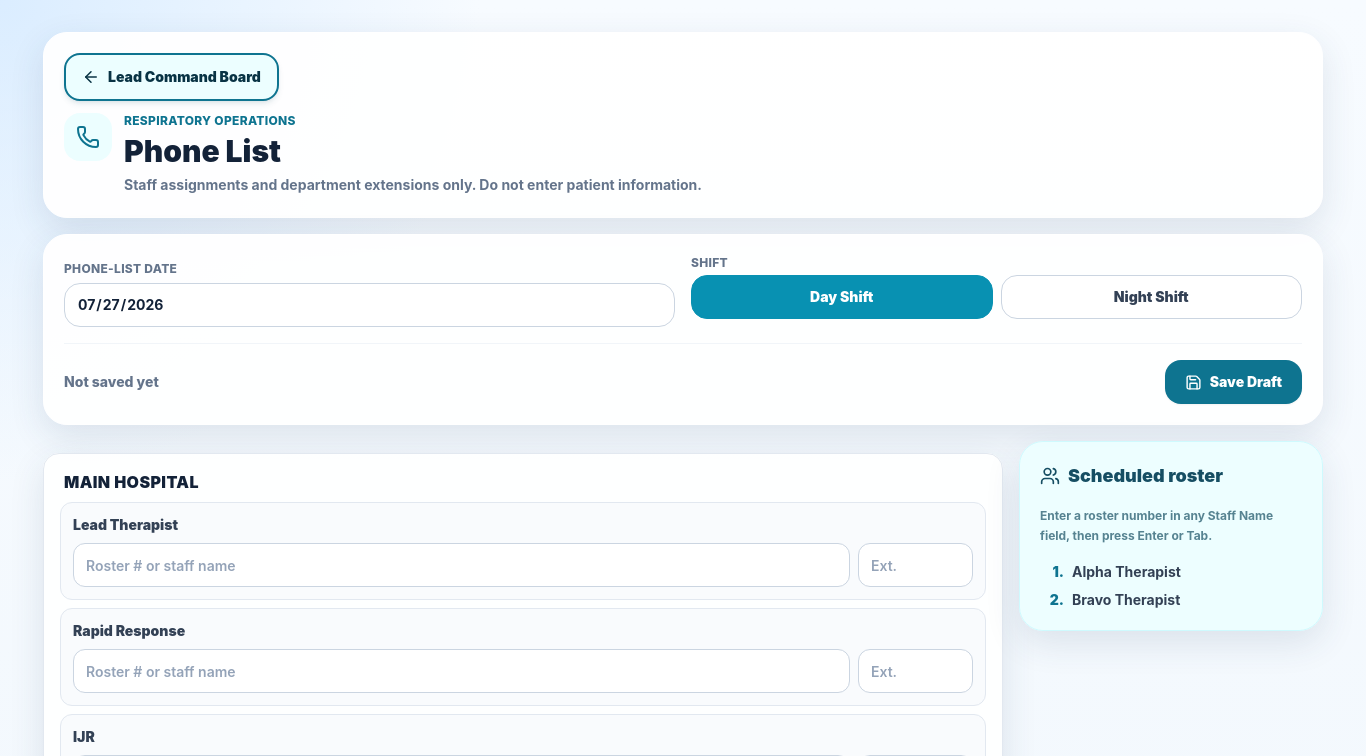
it: PhoneListClient › shows the complete active directory and commits roster shortcuts
This screenshot has width=1366, height=756.
Type "2" into the field with test id "staff-name-main_lead_therapist" at (462, 565), box [73, 543, 850, 587]
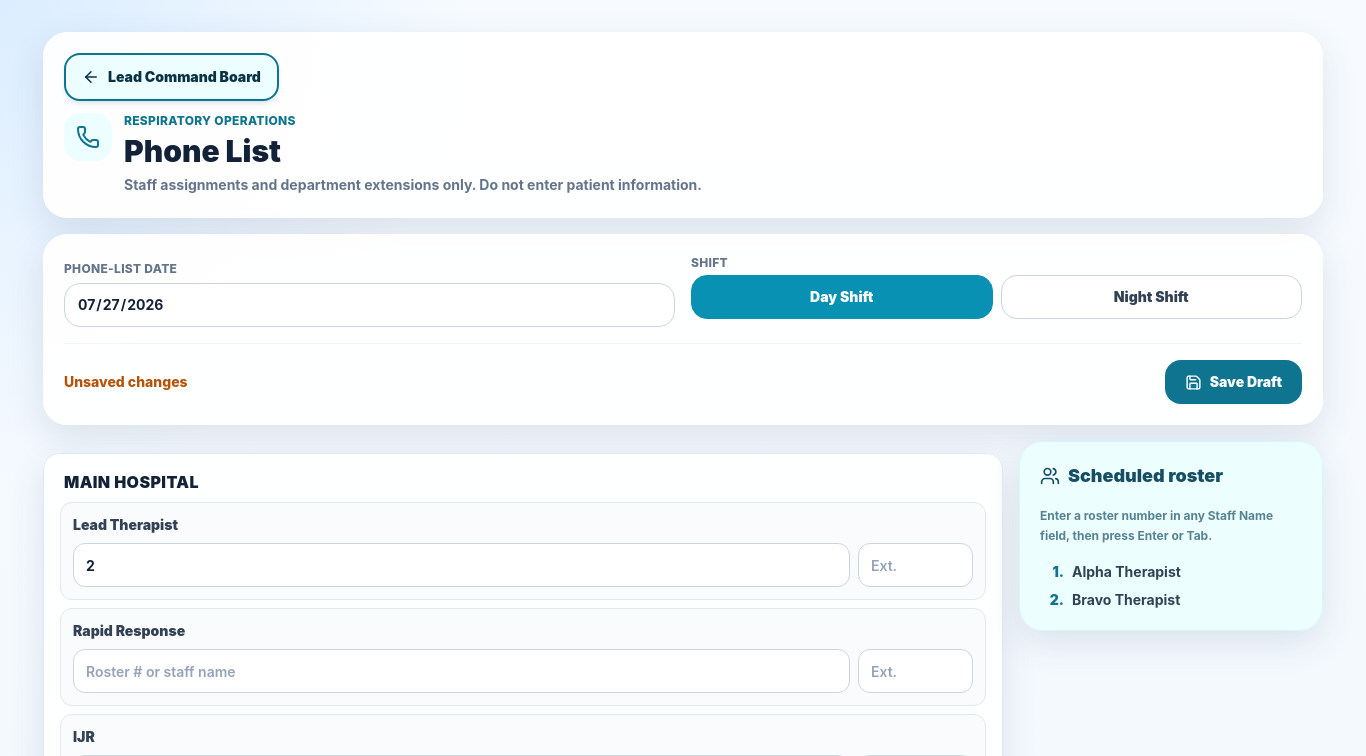
Press Enter in the field with test id "staff-name-main_lead_therapist", box [73, 543, 850, 587]
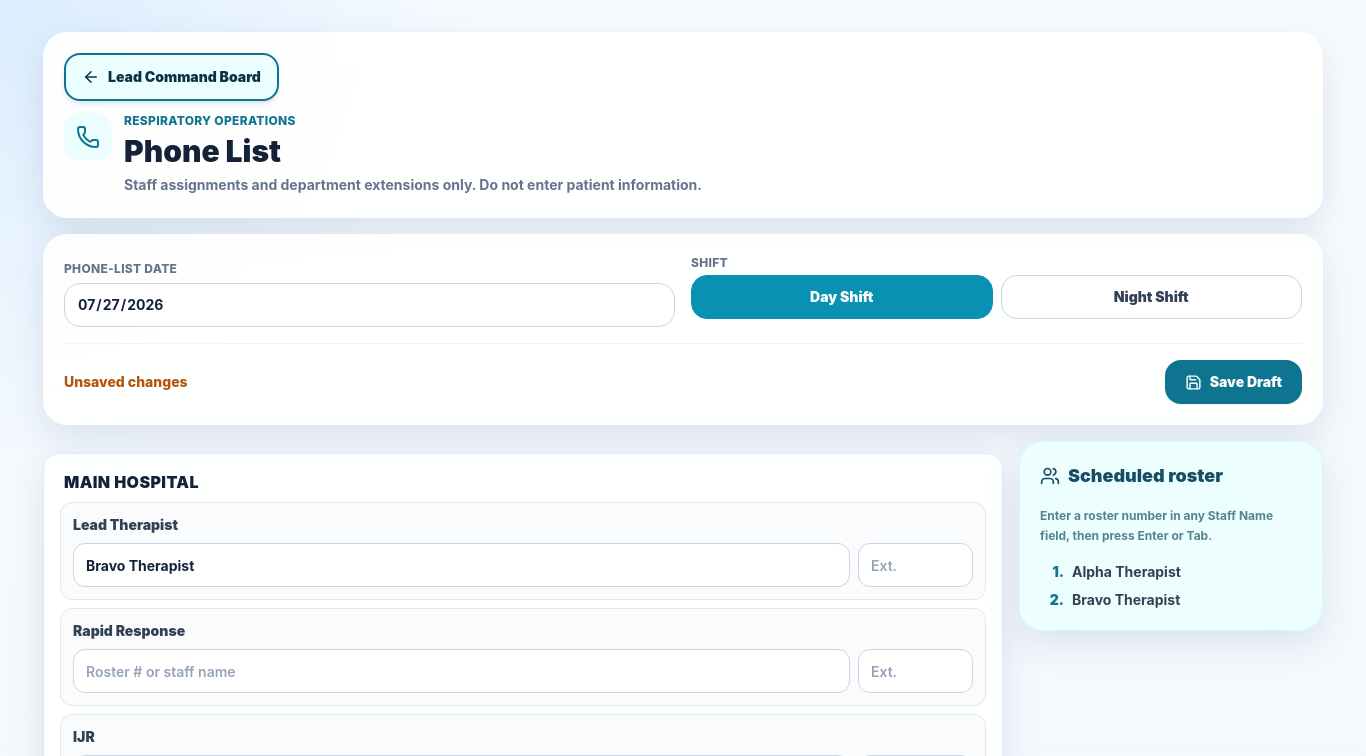
Expected: the field with test id "staff-name-main_lead_therapist" holds "Bravo Therapist", [73, 543, 850, 587]
